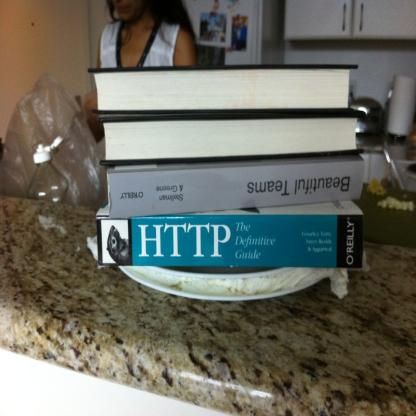book: (95, 204, 364, 268), (101, 159, 362, 220), (99, 111, 362, 167), (89, 62, 362, 115)
